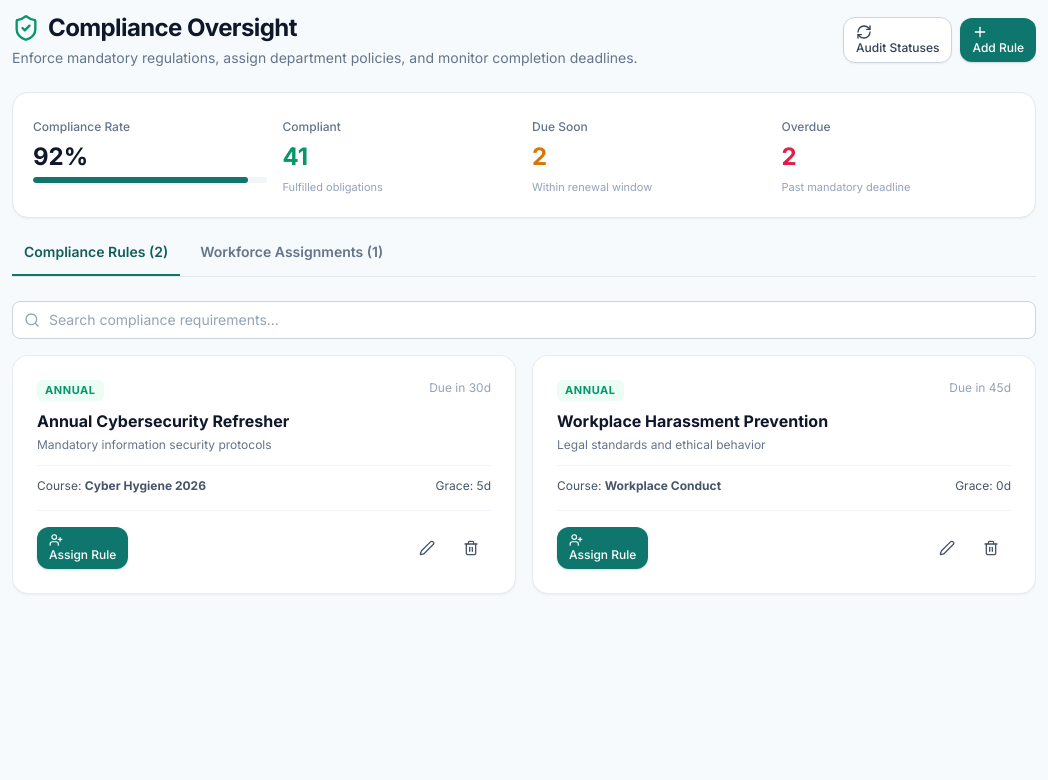
Test: AdminCompliancePage › switches between Rules and Workforce Assignments tabs
The width and height of the screenshot is (1048, 780).
Expected: the heading "Annual Cybersecurity Refresher" is shown, [37,410,289,430]
Step 1. Click the button "Workforce Assignments (1)" → (292, 259), box [188,242,395,276]
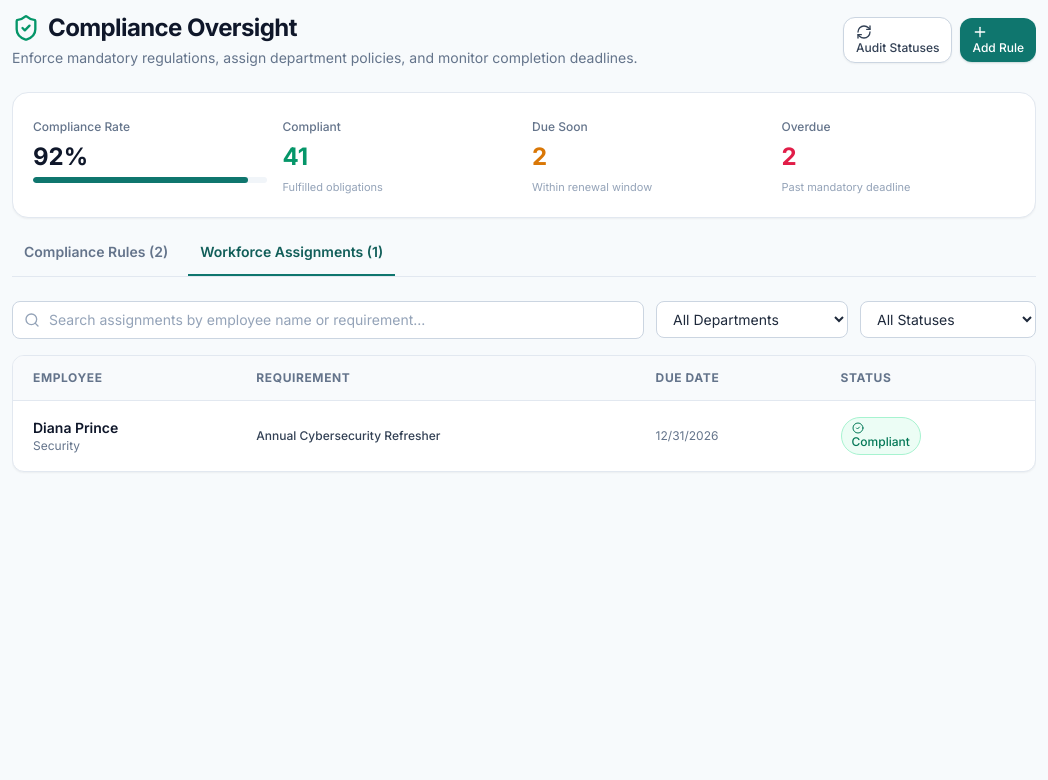
Expected: the text "Security" is shown, [33,438,80,453]
Result: the text "Diana Prince" is shown at [33,419,118,436]
